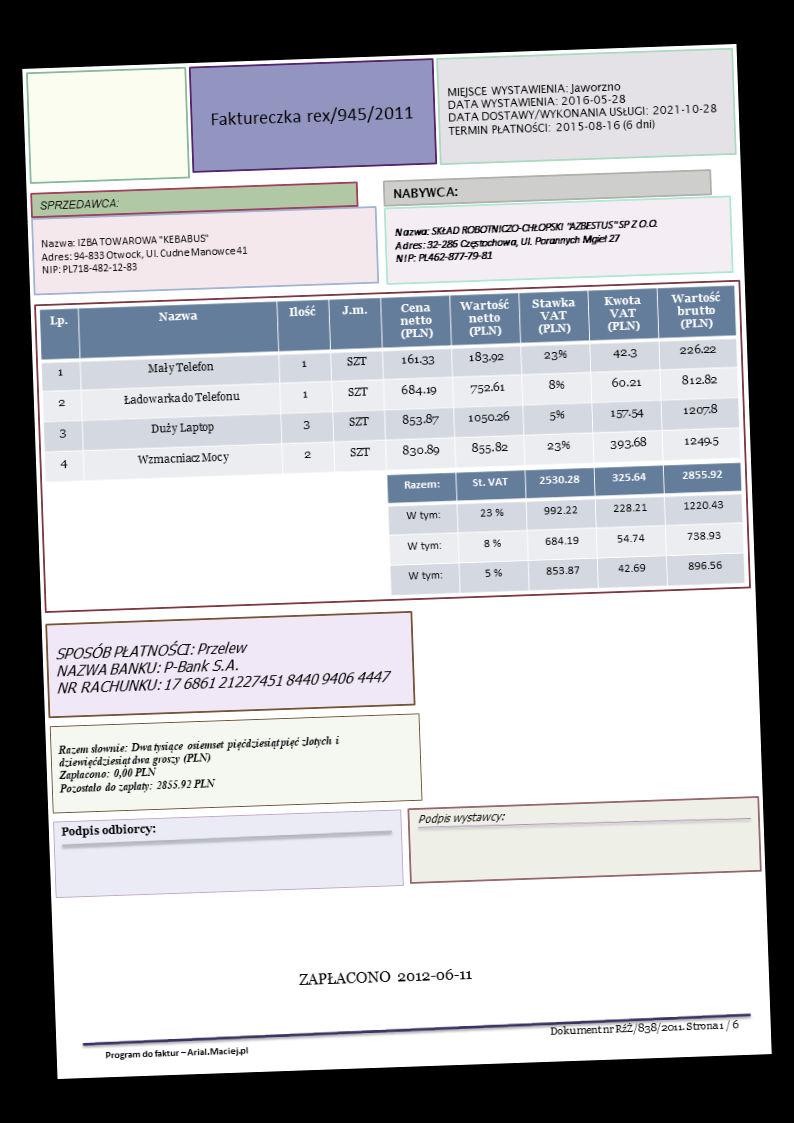Table: (38, 284, 741, 484), (386, 461, 746, 597)
TextBox: (54, 633, 392, 699), (55, 732, 343, 796), (444, 75, 720, 140), (391, 216, 660, 266), (37, 229, 250, 276), (207, 102, 414, 132), (548, 1016, 741, 1041), (294, 965, 474, 989), (102, 1043, 250, 1061), (59, 821, 159, 840), (416, 809, 505, 828), (37, 194, 121, 213), (390, 182, 459, 202)
